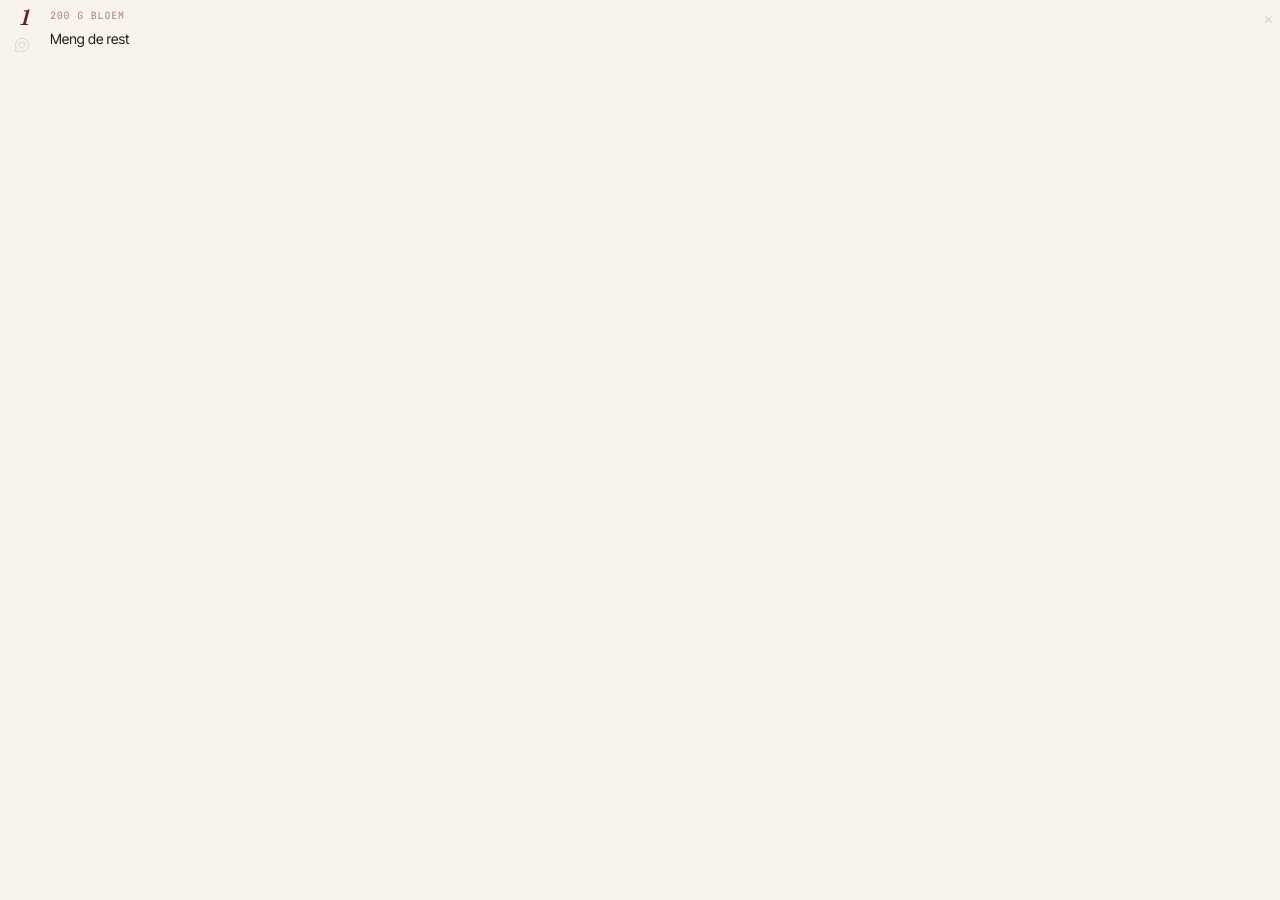
it: LeafRow — cross-step remaining amounts › shows the reduced remaining amount as the default value in the amounts tab
The image size is (1280, 900).
Open via the refs summary button
Step 1. Click the button "200 g bloem" → (87, 16), box [50,8,1249,23]
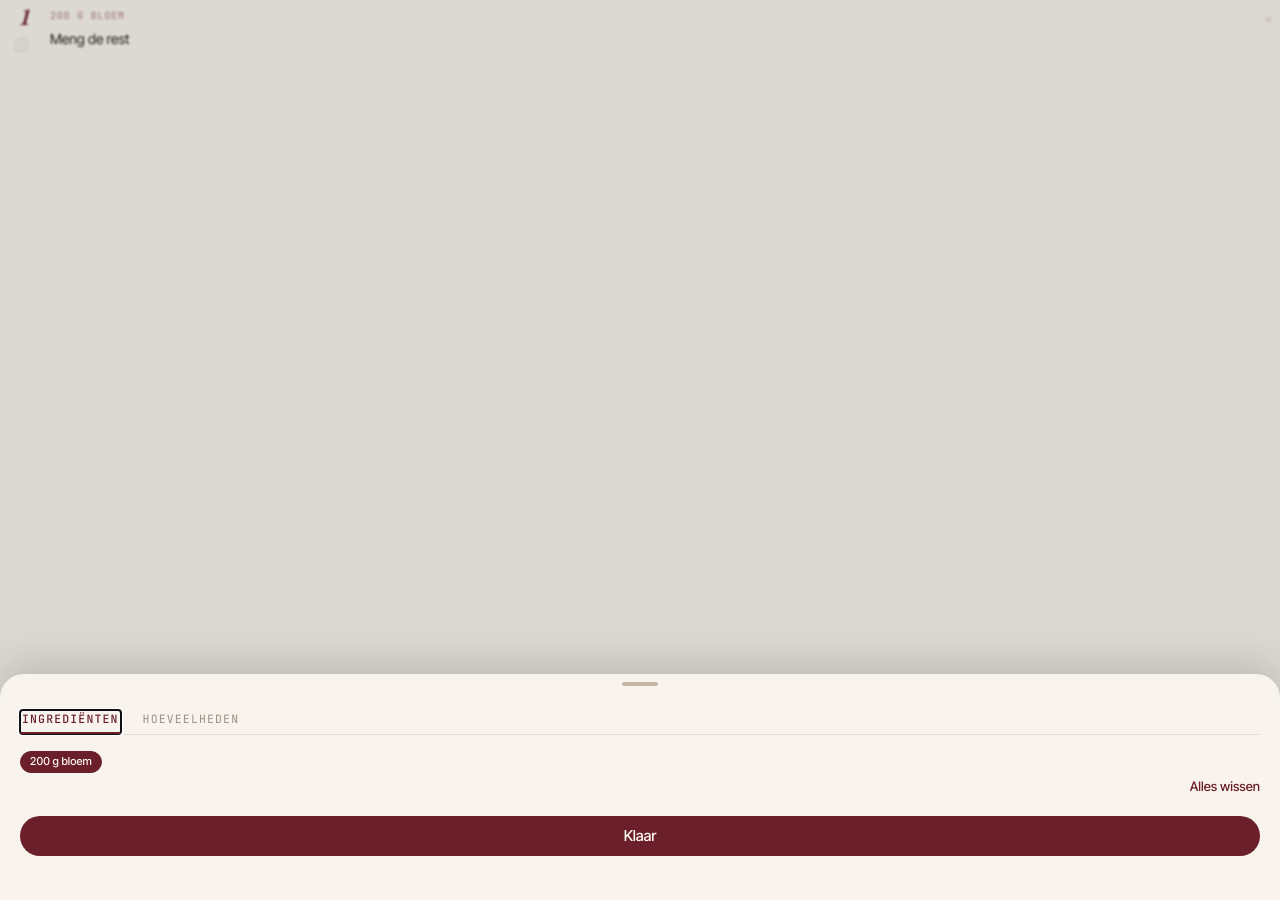
Step 2. Click the button "Hoeveelheden" → (191, 722), box [141,710,241,734]
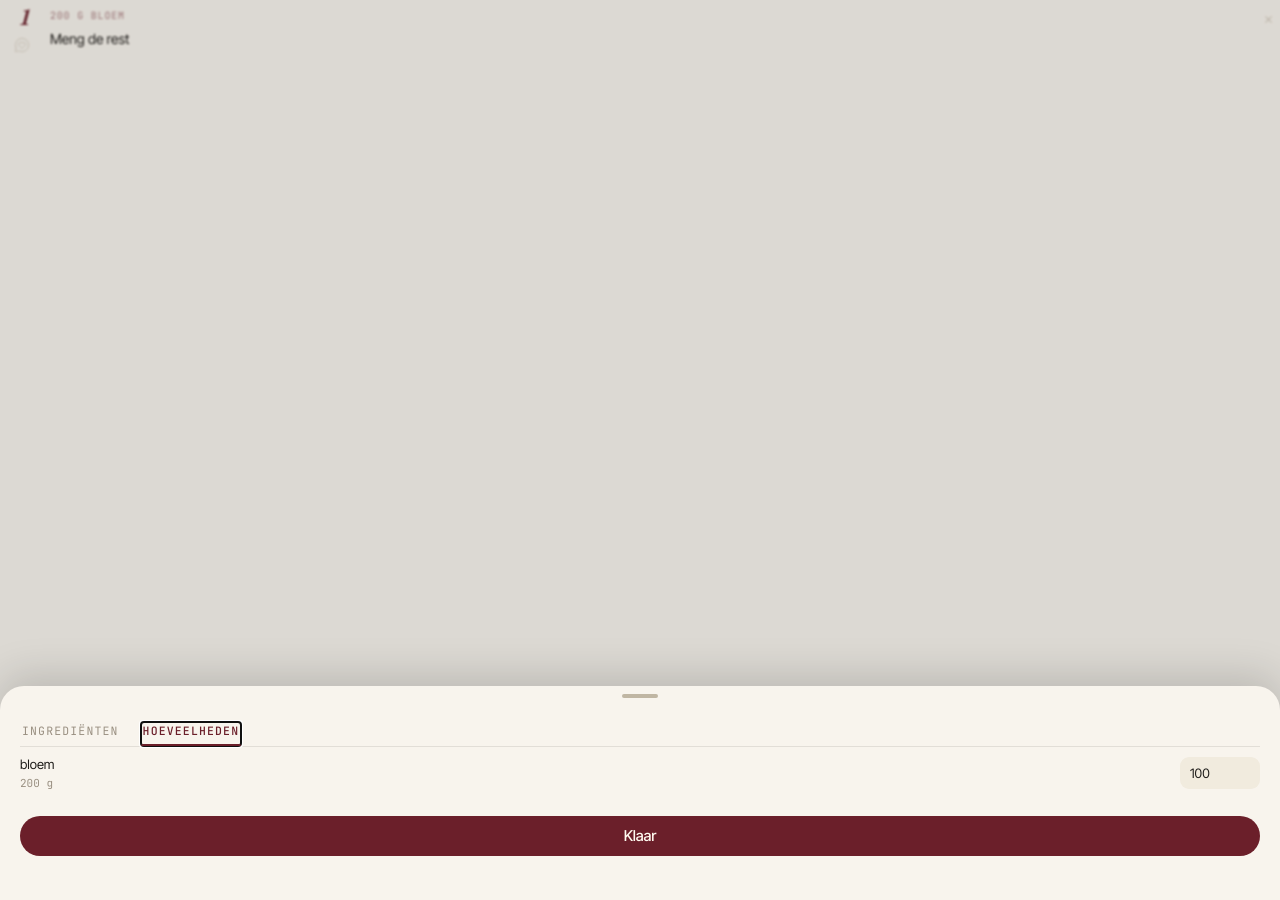
Expected: the field showing "100" is shown, [1180,757,1260,789]
